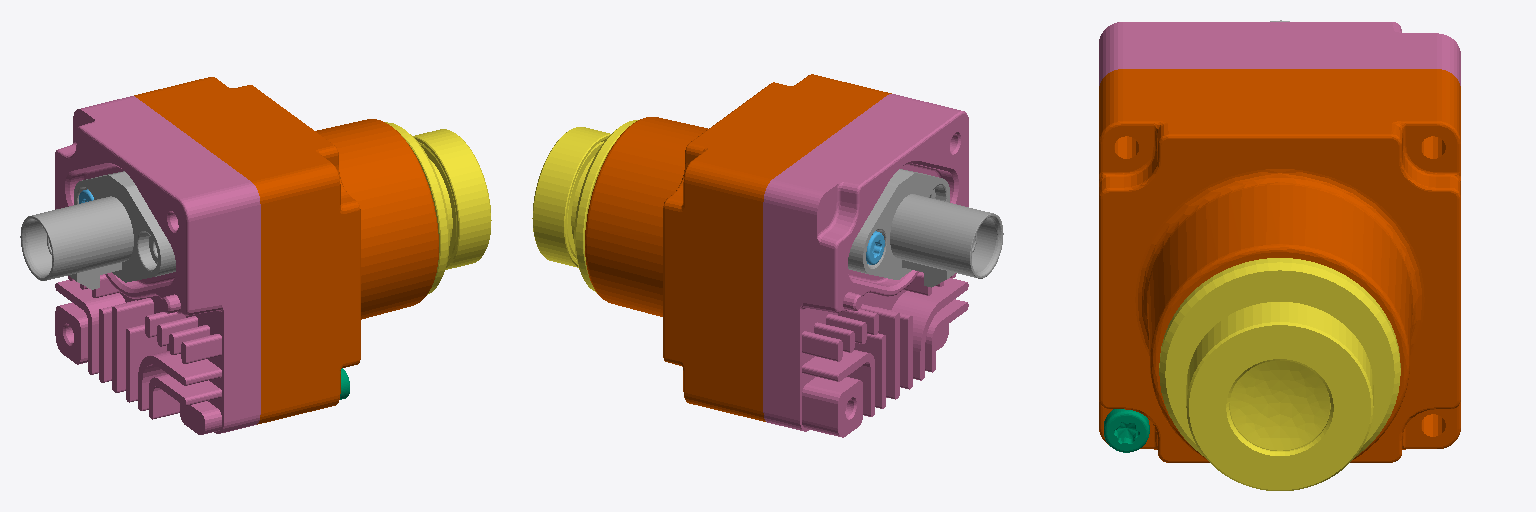
robot.urdf — SG8S_AR0820C_5300_G2A_H60SA:
<?xml version="1.0"?>
<!-- Generated by usd2urdf.py from SG8S-AR0820C-5300-G2A-H60SA.calibrated.acceptance.usd -->
<!-- metersPerUnit=0.01 upAxis=Z -->
<robot name="SG8S_AR0820C_5300_G2A_H60SA">
  <link name="base_link">
  </link>
  <link name="Root">
  </link>
  <link name="SG8S_AR0820C_5300_G2A_H60SA">
  </link>
  <link name="lens">
    <visual>
      <origin xyz="0 0 0" rpy="0 0 0"/>
      <geometry>
        <mesh filename="meshes/Mesh.stl"/>
      </geometry>
    </visual>
    <collision>
      <origin xyz="0 0 0" rpy="0 0 0"/>
      <geometry>
        <mesh filename="meshes/Mesh.stl"/>
      </geometry>
    </collision>
    <inertial>
      <origin xyz="0 0 0" rpy="0 0 0"/>
      <mass value="0.15"/>
      <inertia ixx="0.000999999061" ixy="0" ixz="0" iyy="0.00118153651" iyz="0" izz="0.00118153554"/>
    </inertial>
  </link>
  <link name="SG8S_AR0820C_5300_G2A_H60SA_1">
  </link>
  <link name="top">
    <visual>
      <origin xyz="0 0 0" rpy="0 0 0"/>
      <geometry>
        <mesh filename="meshes/Mesh_1.stl"/>
      </geometry>
    </visual>
    <collision>
      <origin xyz="0 0 0" rpy="0 0 0"/>
      <geometry>
        <mesh filename="meshes/Mesh_1.stl"/>
      </geometry>
    </collision>
    <inertial>
      <origin xyz="0 0 0" rpy="0 0 0"/>
      <mass value="0.15"/>
      <inertia ixx="0.00195704965" ixy="0" ixz="0" iyy="0.0019570501" iyz="0" izz="0.00224999973"/>
    </inertial>
  </link>
  <link name="bottom">
    <visual>
      <origin xyz="0 0 0" rpy="0 0 0"/>
      <geometry>
        <mesh filename="meshes/Mesh_2.stl"/>
      </geometry>
    </visual>
    <collision>
      <origin xyz="0 0 0" rpy="0 0 0"/>
      <geometry>
        <mesh filename="meshes/Mesh_2.stl"/>
      </geometry>
    </collision>
    <inertial>
      <origin xyz="0 0 0" rpy="0 0 0"/>
      <mass value="0.15"/>
      <inertia ixx="0.00129523575" ixy="0" ixz="0" iyy="0.00129523608" iyz="0" izz="0.00224999962"/>
    </inertial>
  </link>
  <link name="fakra">
    <visual>
      <origin xyz="0 0 0" rpy="0 0 0"/>
      <geometry>
        <mesh filename="meshes/Mesh_3.stl"/>
      </geometry>
    </visual>
    <collision>
      <origin xyz="0 0 0" rpy="0 0 0"/>
      <geometry>
        <mesh filename="meshes/Mesh_3.stl"/>
      </geometry>
    </collision>
    <inertial>
      <origin xyz="0 0 0" rpy="0 0 0"/>
      <mass value="0.15"/>
      <inertia ixx="0.000664724523" ixy="0" ixz="0" iyy="0.000589528158" iyz="0" izz="0.000885196429"/>
    </inertial>
  </link>
  <link name="screw">
    <visual>
      <origin xyz="0 0 0" rpy="0 0 0"/>
      <geometry>
        <mesh filename="meshes/Mesh_4.stl"/>
      </geometry>
    </visual>
    <collision>
      <origin xyz="0 0 0" rpy="0 0 0"/>
      <geometry>
        <mesh filename="meshes/Mesh_4.stl"/>
      </geometry>
    </collision>
    <inertial>
      <origin xyz="0 0 0" rpy="0 0 0"/>
      <mass value="0.15"/>
      <inertia ixx="5.5683573e-05" ixy="0" ixz="0" iyy="6.83346213e-05" iyz="0" izz="7.48162515e-05"/>
    </inertial>
  </link>
  <link name="screw_01">
    <visual>
      <origin xyz="0 0 0" rpy="0 0 0"/>
      <geometry>
        <mesh filename="meshes/Mesh_5.stl"/>
      </geometry>
    </visual>
    <collision>
      <origin xyz="0 0 0" rpy="0 0 0"/>
      <geometry>
        <mesh filename="meshes/Mesh_5.stl"/>
      </geometry>
    </collision>
    <inertial>
      <origin xyz="0 0 0" rpy="0 0 0"/>
      <mass value="0.15"/>
      <inertia ixx="5.5683573e-05" ixy="0" ixz="0" iyy="6.83346213e-05" iyz="0" izz="7.48162515e-05"/>
    </inertial>
  </link>
  <link name="screw_02">
    <visual>
      <origin xyz="0 0 0" rpy="0 0 0"/>
      <geometry>
        <mesh filename="meshes/Mesh_6.stl"/>
      </geometry>
    </visual>
    <collision>
      <origin xyz="0 0 0" rpy="0 0 0"/>
      <geometry>
        <mesh filename="meshes/Mesh_6.stl"/>
      </geometry>
    </collision>
    <inertial>
      <origin xyz="0 0 0" rpy="0 0 0"/>
      <mass value="0.15"/>
      <inertia ixx="0.000194591302" ixy="0" ixz="0" iyy="0.000318453528" iyz="0" izz="0.000361783971"/>
    </inertial>
  </link>
  <link name="screw_03">
    <visual>
      <origin xyz="0 0 0" rpy="0 0 0"/>
      <geometry>
        <mesh filename="meshes/Mesh_7.stl"/>
      </geometry>
    </visual>
    <collision>
      <origin xyz="0 0 0" rpy="0 0 0"/>
      <geometry>
        <mesh filename="meshes/Mesh_7.stl"/>
      </geometry>
    </collision>
    <inertial>
      <origin xyz="0 0 0" rpy="0 0 0"/>
      <mass value="0.15"/>
      <inertia ixx="0.000194591302" ixy="0" ixz="0" iyy="0.000318453528" iyz="0" izz="0.000361783971"/>
    </inertial>
  </link>
  <link name="screw_04">
    <visual>
      <origin xyz="0 0 0" rpy="0 0 0"/>
      <geometry>
        <mesh filename="meshes/Mesh_8.stl"/>
      </geometry>
    </visual>
    <collision>
      <origin xyz="0 0 0" rpy="0 0 0"/>
      <geometry>
        <mesh filename="meshes/Mesh_8.stl"/>
      </geometry>
    </collision>
    <inertial>
      <origin xyz="0 0 0" rpy="0 0 0"/>
      <mass value="0.15"/>
      <inertia ixx="0.000194591302" ixy="0" ixz="0" iyy="0.000318453528" iyz="0" izz="0.000361783971"/>
    </inertial>
  </link>
  <link name="screw_05">
    <visual>
      <origin xyz="0 0 0" rpy="0 0 0"/>
      <geometry>
        <mesh filename="meshes/Mesh_9.stl"/>
      </geometry>
    </visual>
    <collision>
      <origin xyz="0 0 0" rpy="0 0 0"/>
      <geometry>
        <mesh filename="meshes/Mesh_9.stl"/>
      </geometry>
    </collision>
    <inertial>
      <origin xyz="0 0 0" rpy="0 0 0"/>
      <mass value="0.15"/>
      <inertia ixx="0.000194591302" ixy="0" ixz="0" iyy="0.000318453528" iyz="0" izz="0.000361783971"/>
    </inertial>
  </link>
  <link name="sg8s_ar0820c_5300_g2a_h60sa_lens">
  </link>
  <joint name="base_link_to_Root" type="fixed">
    <parent link="base_link"/>
    <child link="Root"/>
    <origin xyz="0 0 0" rpy="0 0 0"/>
  </joint>
  <joint name="Root_to_SG8S_AR0820C_5300_G2A_H60SA" type="fixed">
    <parent link="Root"/>
    <child link="SG8S_AR0820C_5300_G2A_H60SA"/>
    <origin xyz="0 0 0" rpy="0 1.57079633 0"/>
  </joint>
  <joint name="SG8S_AR0820C_5300_G2A_H60SA_to_lens" type="fixed">
    <parent link="SG8S_AR0820C_5300_G2A_H60SA"/>
    <child link="lens"/>
    <origin xyz="-12.9951562 0.152365152 30.6072552" rpy="1.57079673 1.57079632 0"/>
  </joint>
  <joint name="lens_to_SG8S_AR0820C_5300_G2A_H60SA_1" type="fixed">
    <parent link="lens"/>
    <child link="SG8S_AR0820C_5300_G2A_H60SA_1"/>
    <origin xyz="30.5010308 13.1484796 0.000898889115" rpy="3.14159265 -1.57079633 0"/>
  </joint>
  <joint name="SG8S_AR0820C_5300_G2A_H60SA_to_top" type="fixed">
    <parent link="SG8S_AR0820C_5300_G2A_H60SA"/>
    <child link="top"/>
    <origin xyz="0.152359832 1.03235985 -0.145" rpy="0 0 0"/>
  </joint>
  <joint name="SG8S_AR0820C_5300_G2A_H60SA_to_bottom" type="fixed">
    <parent link="SG8S_AR0820C_5300_G2A_H60SA"/>
    <child link="bottom"/>
    <origin xyz="0.152359832 1.03235985 -0.145" rpy="0 0 0"/>
  </joint>
  <joint name="SG8S_AR0820C_5300_G2A_H60SA_to_fakra" type="fixed">
    <parent link="SG8S_AR0820C_5300_G2A_H60SA"/>
    <child link="fakra"/>
    <origin xyz="0.0901598111 0.152359847 -0.2492" rpy="4.05858743e-08 1.57079633 0"/>
  </joint>
  <joint name="SG8S_AR0820C_5300_G2A_H60SA_to_screw" type="fixed">
    <parent link="SG8S_AR0820C_5300_G2A_H60SA"/>
    <child link="screw"/>
    <origin xyz="-3.77401047 -13.954492 -3.80940256" rpy="-2.18248173 -0.941486389 0.515846833"/>
  </joint>
  <joint name="SG8S_AR0820C_5300_G2A_H60SA_to_screw_01" type="fixed">
    <parent link="SG8S_AR0820C_5300_G2A_H60SA"/>
    <child link="screw_01"/>
    <origin xyz="-3.77401047 -13.818492 -3.80940256" rpy="-2.18248173 -0.941486389 0.515846833"/>
  </joint>
  <joint name="SG8S_AR0820C_5300_G2A_H60SA_to_screw_02" type="fixed">
    <parent link="SG8S_AR0820C_5300_G2A_H60SA"/>
    <child link="screw_02"/>
    <origin xyz="4.14353013 -14.013492 3.37720256" rpy="0.959110919 0.941486389 2.62574582"/>
  </joint>
  <joint name="SG8S_AR0820C_5300_G2A_H60SA_to_screw_03" type="fixed">
    <parent link="SG8S_AR0820C_5300_G2A_H60SA"/>
    <child link="screw_03"/>
    <origin xyz="4.14353013 -13.759492 3.37720256" rpy="0.959110919 0.941486389 2.62574582"/>
  </joint>
  <joint name="SG8S_AR0820C_5300_G2A_H60SA_to_screw_04" type="fixed">
    <parent link="SG8S_AR0820C_5300_G2A_H60SA"/>
    <child link="screw_04"/>
    <origin xyz="3.88953013 -13.759492 3.37720256" rpy="0.959110919 0.941486389 2.62574582"/>
  </joint>
  <joint name="SG8S_AR0820C_5300_G2A_H60SA_to_screw_05" type="fixed">
    <parent link="SG8S_AR0820C_5300_G2A_H60SA"/>
    <child link="screw_05"/>
    <origin xyz="3.88953013 -14.013492 3.37720256" rpy="0.959110919 0.941486389 2.62574582"/>
  </joint>
  <joint name="SG8S_AR0820C_5300_G2A_H60SA_to_sg8s_ar0820c_5300_g2a_h60sa_lens" type="fixed">
    <parent link="SG8S_AR0820C_5300_G2A_H60SA"/>
    <child link="sg8s_ar0820c_5300_g2a_h60sa_lens"/>
    <origin xyz="0.153323616 0.151460957 0.106224424" rpy="6.96659885e-09 0 -1.57079673"/>
  </joint>
</robot>

--- What the picture shows (computed from the rendered views, not written in the file) ---
3 views of the same robot in one strip: view 1: azimuth 30°, elevation 25°; view 2: azimuth 150°, elevation 25°; view 3: azimuth 270°, elevation 25° (orthographic).
Model SG8S_AR0820C_5300_G2A_H60SA with 15 links and 14 joints (14 fixed), rooted at base_link, posed all joints at 0.
Visible links, largest first — view 1: top, bottom, fakra, lens; view 2: top, bottom, fakra, lens; view 3: top, lens, bottom, screw_02.
Boxes of the visible links, x1=… form: top: x1=134, y1=77, x2=438, y2=424; bottom: x1=55, y1=96, x2=260, y2=434; fakra: x1=20, y1=171, x2=175, y2=289; lens: x1=385, y1=122, x2=491, y2=294; top: x1=585, y1=74, x2=891, y2=421; bottom: x1=763, y1=94, x2=968, y2=437; fakra: x1=848, y1=169, x2=1003, y2=287; lens: x1=532, y1=120, x2=637, y2=292; top: x1=1099, y1=69, x2=1460, y2=462; lens: x1=1159, y1=258, x2=1400, y2=490; bottom: x1=1099, y1=22, x2=1460, y2=85; screw_02: x1=1104, y1=409, x2=1149, y2=452.
Bounding box of the posed robot: 0.5457 × 0.3 × 0.3 m (x, y, z).
6 mesh visuals loaded from 10 distinct referenced files (6 binary STL); not drawn: 4 (reference not matched to a file when rendering).
